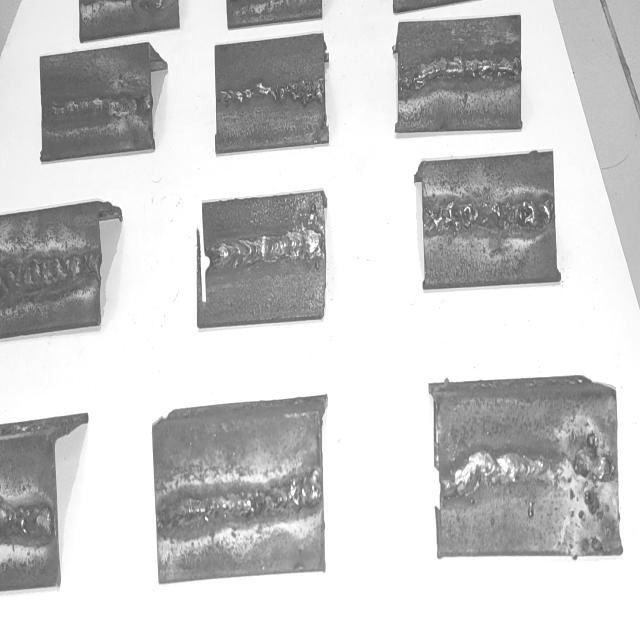Defect: (568, 432, 614, 544), (426, 204, 549, 236), (0, 504, 52, 542)
Welding Line: (160, 474, 322, 526), (440, 448, 550, 502), (211, 227, 320, 271), (1, 250, 98, 298), (402, 56, 520, 91), (46, 90, 152, 120), (218, 81, 324, 108)
Workpiece: (438, 399, 618, 555), (154, 422, 325, 574), (423, 161, 555, 285), (200, 198, 324, 322), (0, 204, 101, 338), (398, 21, 522, 130), (215, 44, 326, 150), (40, 53, 153, 156), (0, 433, 56, 587)
